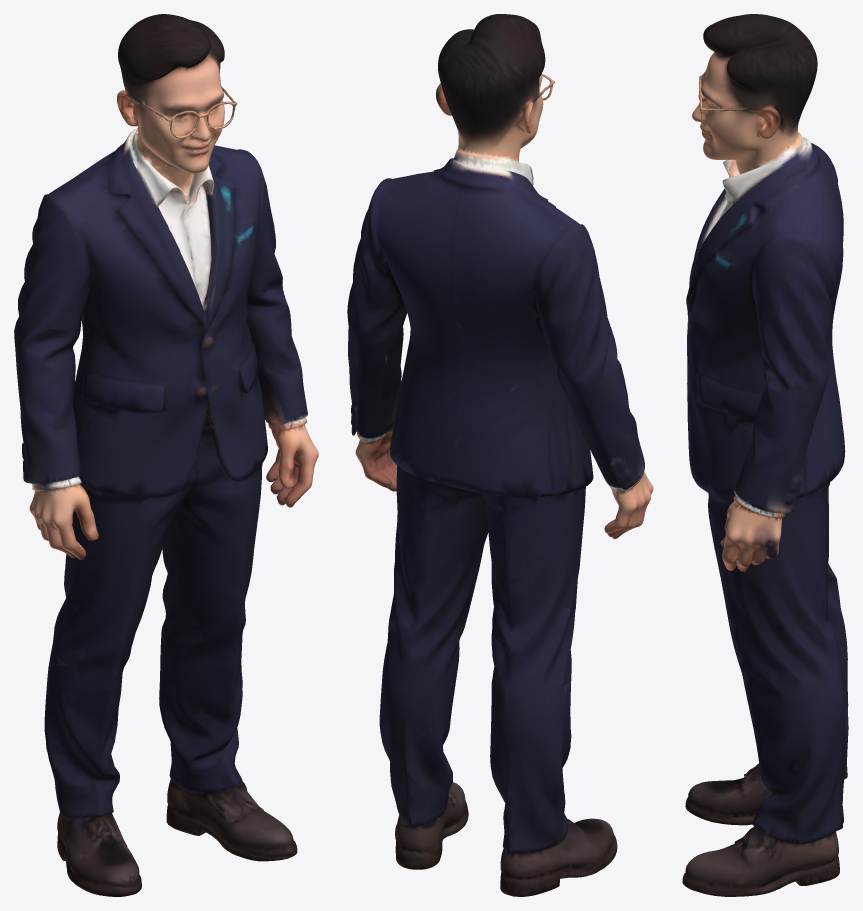
Rendered from personal-static.glb.
3 renders of one model, left to right at view 1: azimuth 30°, elevation 25°; view 2: azimuth 150°, elevation 25°; view 3: azimuth 270°, elevation 25°, orthographic.
Visible parts, largest first — view 1: Personal0597_OriginalFrontFigure; view 2: Personal0597_OriginalFrontFigure; view 3: Personal0597_OriginalFrontFigure.
Boxes of the visible parts, box(x1,y1,x2,y2) form: Personal0597_OriginalFrontFigure: box(14, 14, 318, 896); Personal0597_OriginalFrontFigure: box(347, 14, 653, 896); Personal0597_OriginalFrontFigure: box(682, 14, 848, 896).
Bounding box in the file's own units: 0.6235 × 1.78 × 0.3212.
Materials: 1 (1 with a texture image).
